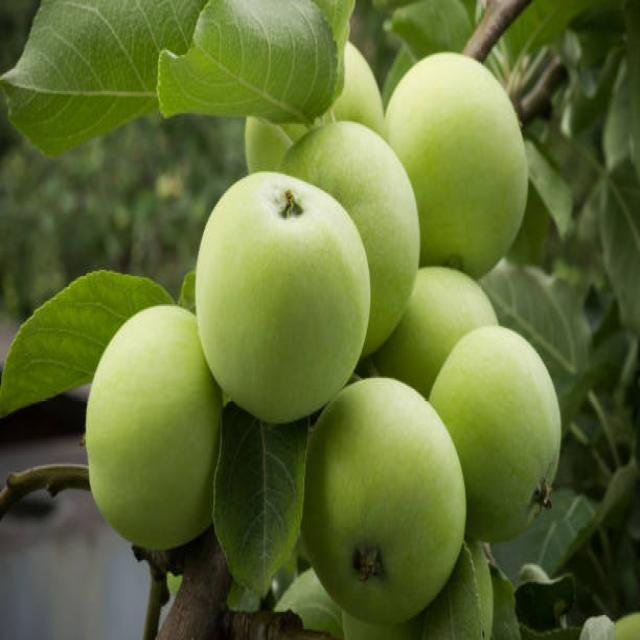Unripe: (193, 169, 371, 425), (302, 377, 467, 627)
